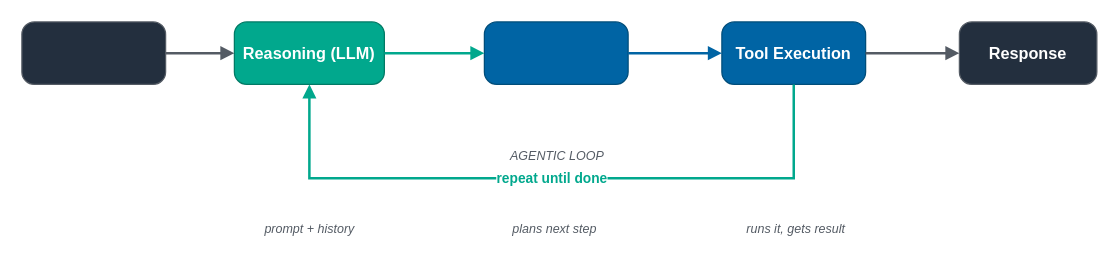
Image size: 1119x263. Some labels were removed from this diagram. Here are the shapes that lost their labels. From the top down, the centre of each, then its label:
point 93,52: Input & Context
point 555,52: Tool Selection
